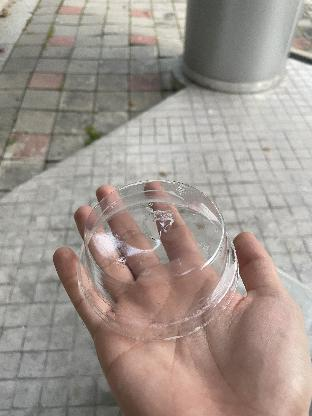Plastic Cup: (81, 178, 244, 342)
